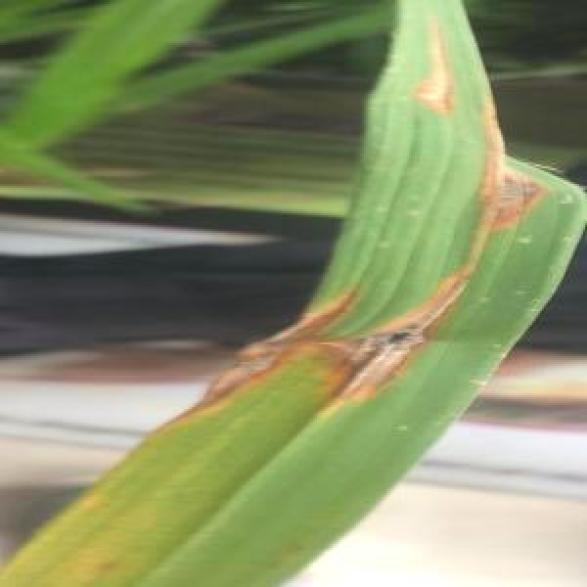Leaf_smut: (186, 251, 372, 401), (337, 247, 491, 417), (462, 98, 585, 242), (397, 16, 470, 111)
